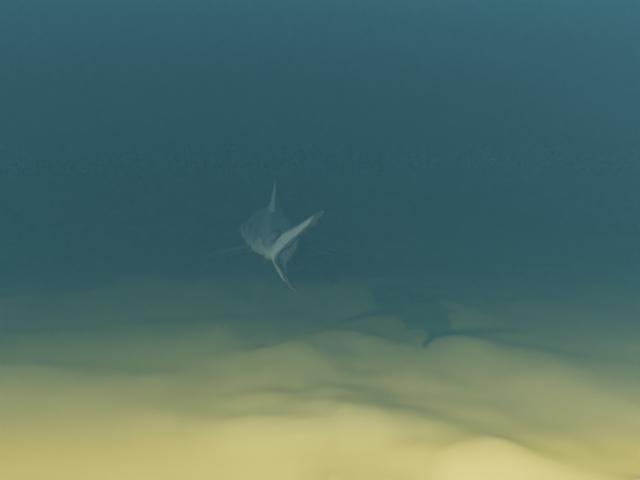Carribean Shark.001: (191, 177, 355, 291)
